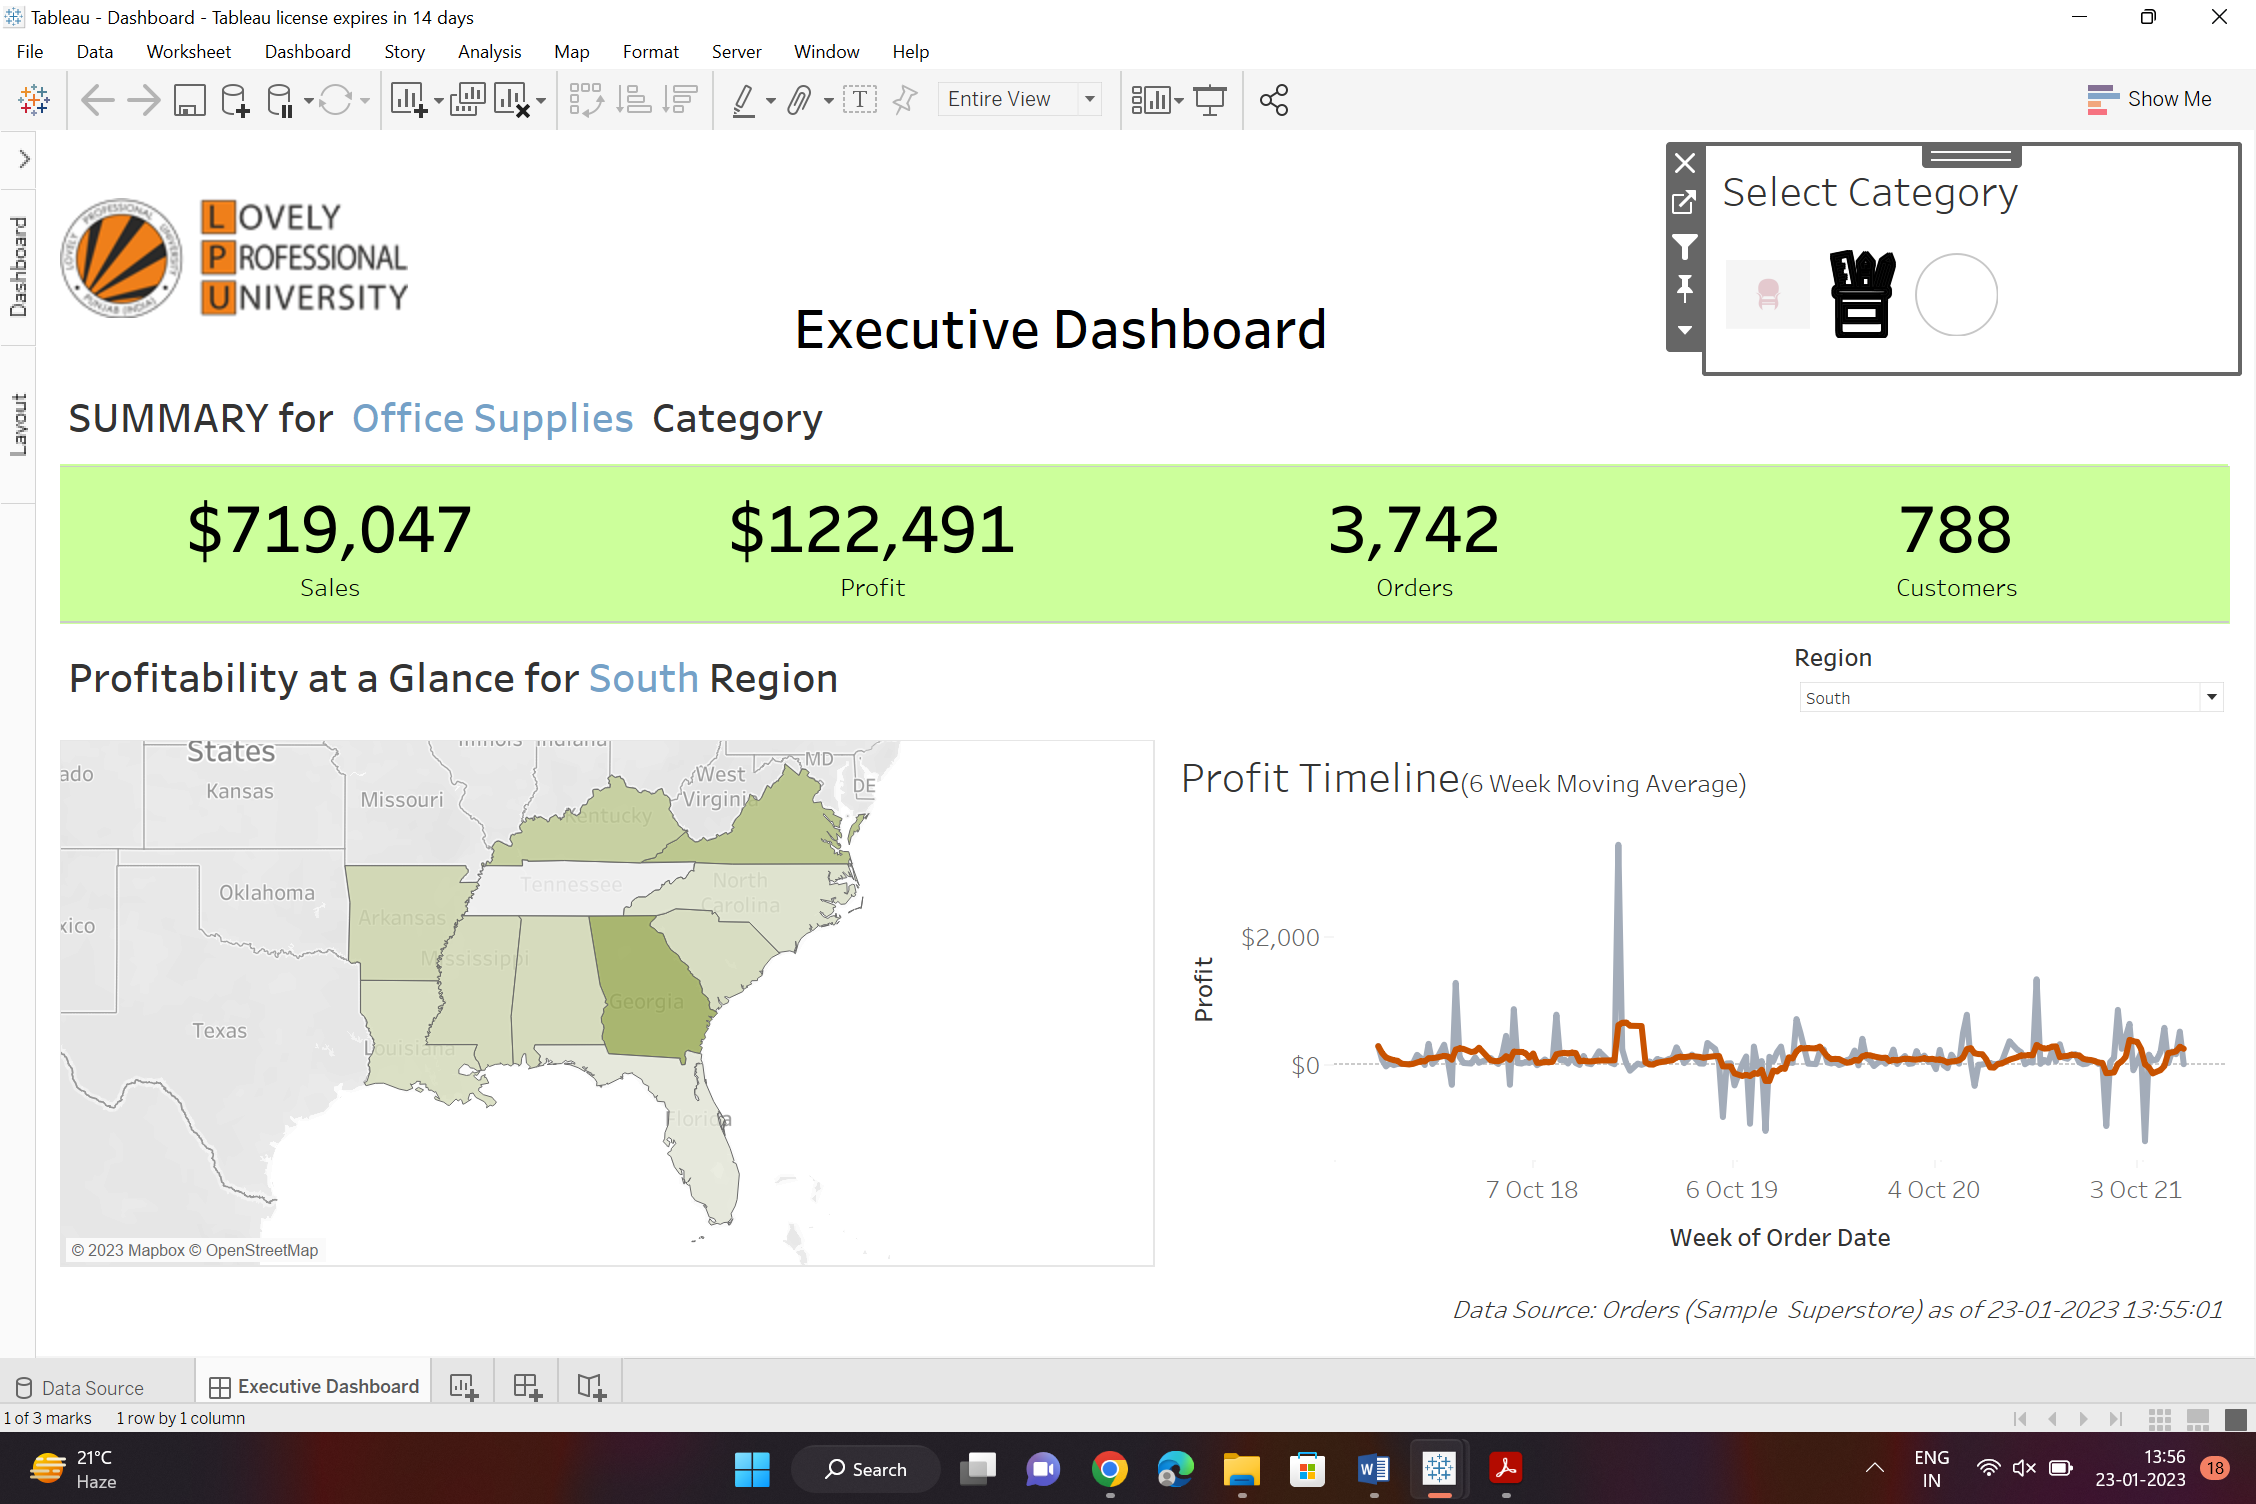

The page's visual inventory and layout, read from the dashboard file:
{"tool":"tableau","page":{"name":"Executive Dashboard","canvas":[1000,1000],"units":"permille","ordinal":0},"visuals":[{"type":"image","param":"C:/Users/pavup/Documents/My Tableau Repository/Shapes/My pics/logo.png","box":[7.3,13.6,165.2,191.8]},{"type":"text","box":[172.4,13.6,579,191.8]},{"type":"worksheet","title":"Menu","mark":"Shape","box":[751.4,13.6,241.4,191.8]},{"type":"worksheet","title":"Banner","mark":"Automatic","box":[7.3,205.4,985.5,220.7]},{"type":"worksheet","title":"Title","mark":"Automatic","box":[7.3,426.1,780.4,84.9]},{"type":"filter","title":"Profitability map","param":"[federated.1c3kysi1b4t1f214kbwxg0h9mdvh].[none:Region:nk]","box":[787.7,426.1,205.1,84.9]},{"type":"worksheet","title":"Profitability map","mark":"Automatic","box":[7.3,511,501.8,421.1]},{"type":"worksheet","title":"Profit Timeline","mark":"Automatic","rows":["Profit"],"cols":["Order Date"],"box":[509.1,511,483.7,421.1]},{"type":"worksheet","title":"Footer","mark":"Automatic","box":[7.3,932.1,985.5,54.3]}]}

Visuals, with their boxes on the dashboard's canvas, which has no fixed pixel size, in thousandths of its width and height (x1, y1, x2, y2). These are canvas units, not pixel positions in the 2256x1504 screenshot, which may show the page scaled, cropped or inside an application window:
image: Rect(7, 14, 172, 205)
text: Rect(172, 14, 751, 205)
"Menu" worksheet (Shape marks): Rect(751, 14, 993, 205)
"Banner" worksheet: Rect(7, 205, 993, 426)
"Title" worksheet: Rect(7, 426, 788, 511)
"Profitability map" filter: Rect(788, 426, 993, 511)
"Profitability map" worksheet: Rect(7, 511, 509, 932)
"Profit Timeline" worksheet: Rect(509, 511, 993, 932)
"Footer" worksheet: Rect(7, 932, 993, 986)
